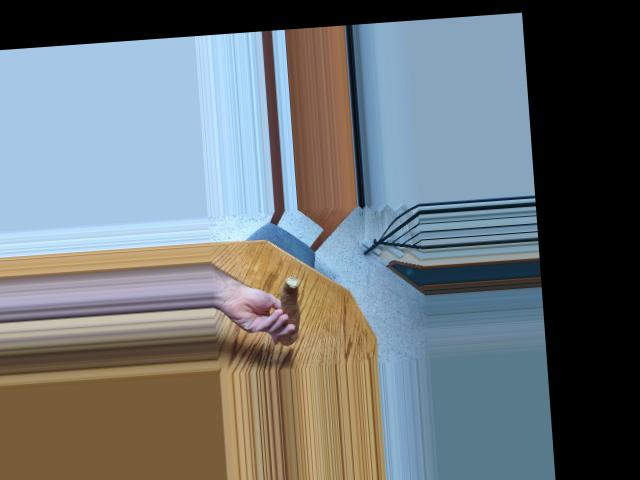sweet_potato: (270, 275, 305, 345)
